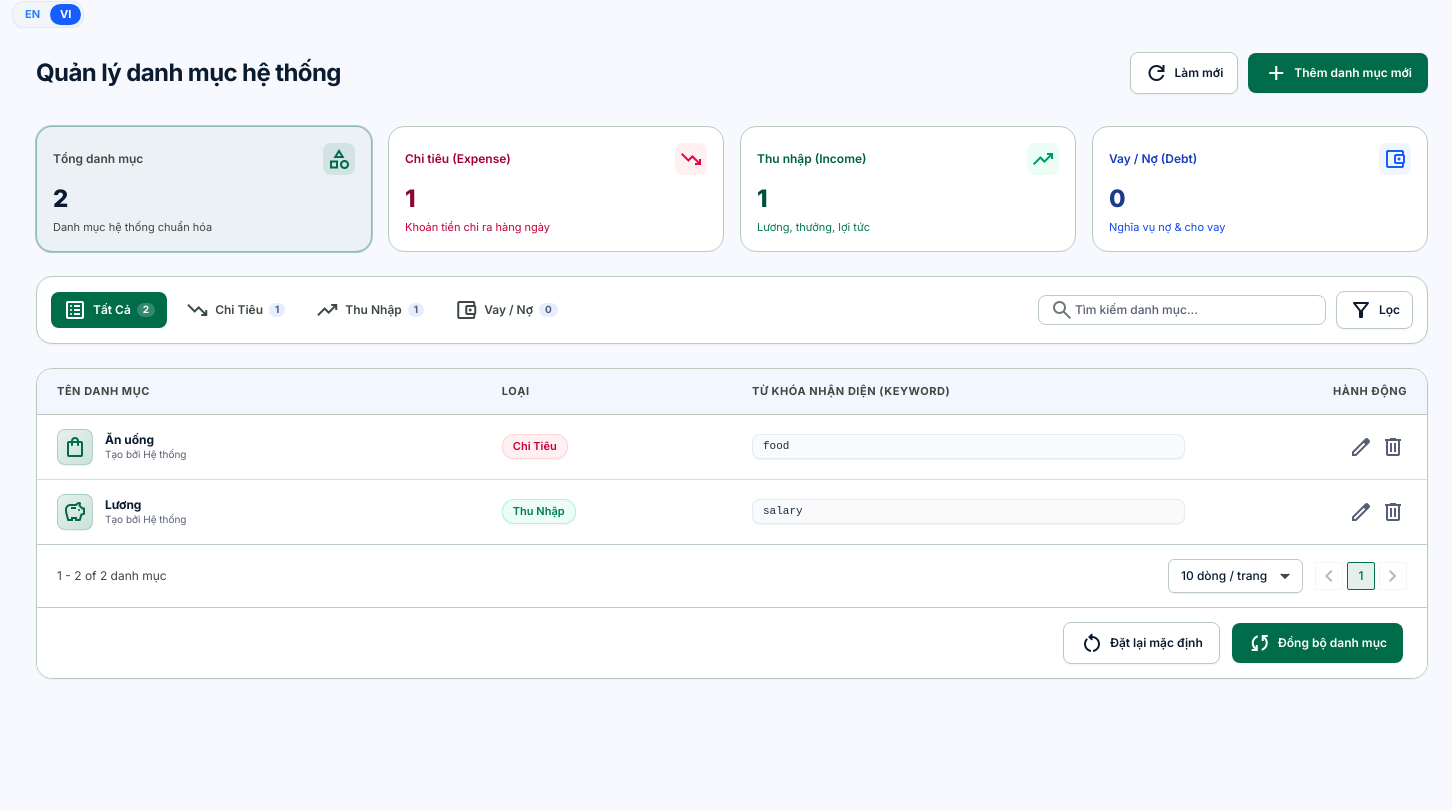
Admin-web Phase 2 i18n Suite — Core Business Pages (2-Tier Testing) › 3. CategoryPage i18n Verification › 3.1. Danh mục tạo bởi hệ thống và các nhãn hành động hiển thị chuẩn theo ngôn ngữ
expect the text "Ăn uống" is shown: met, box [105,432,154,448]
expect the text "Tạo bởi Hệ thống" below "Ăn uống" is shown: met, box [105,448,186,460]
# Tier 2: Chuyển sang EN
Click the button with test id "lang-btn-en" at (33, 14), box [15,4,50,24]
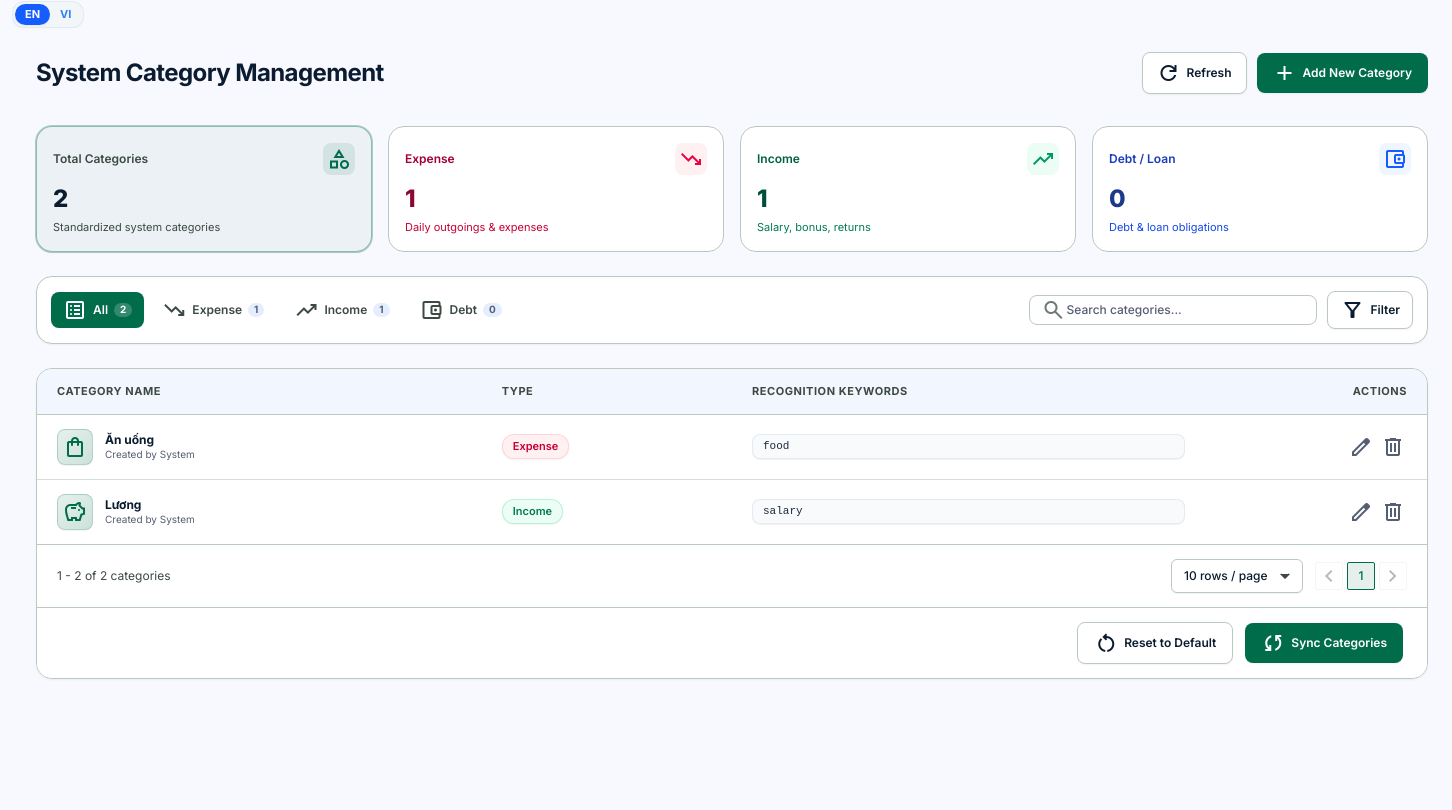
expect the text "Created by System" below "Ăn uống" is shown: met, box [105,448,195,460]
expect the field with placeholder "Search categories..." is shown: met, box [1030,295,1318,325]
expect the button "Add New Category" is shown: met, box [1256,52,1428,92]
